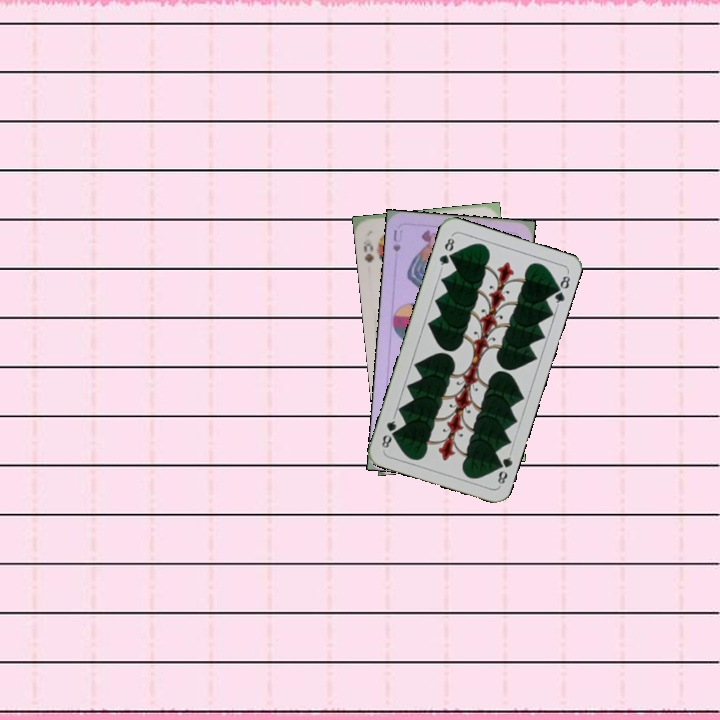G8: (492, 449, 515, 487), (435, 232, 457, 271)
S8: (359, 235, 376, 265)
SU: (389, 225, 405, 254)
